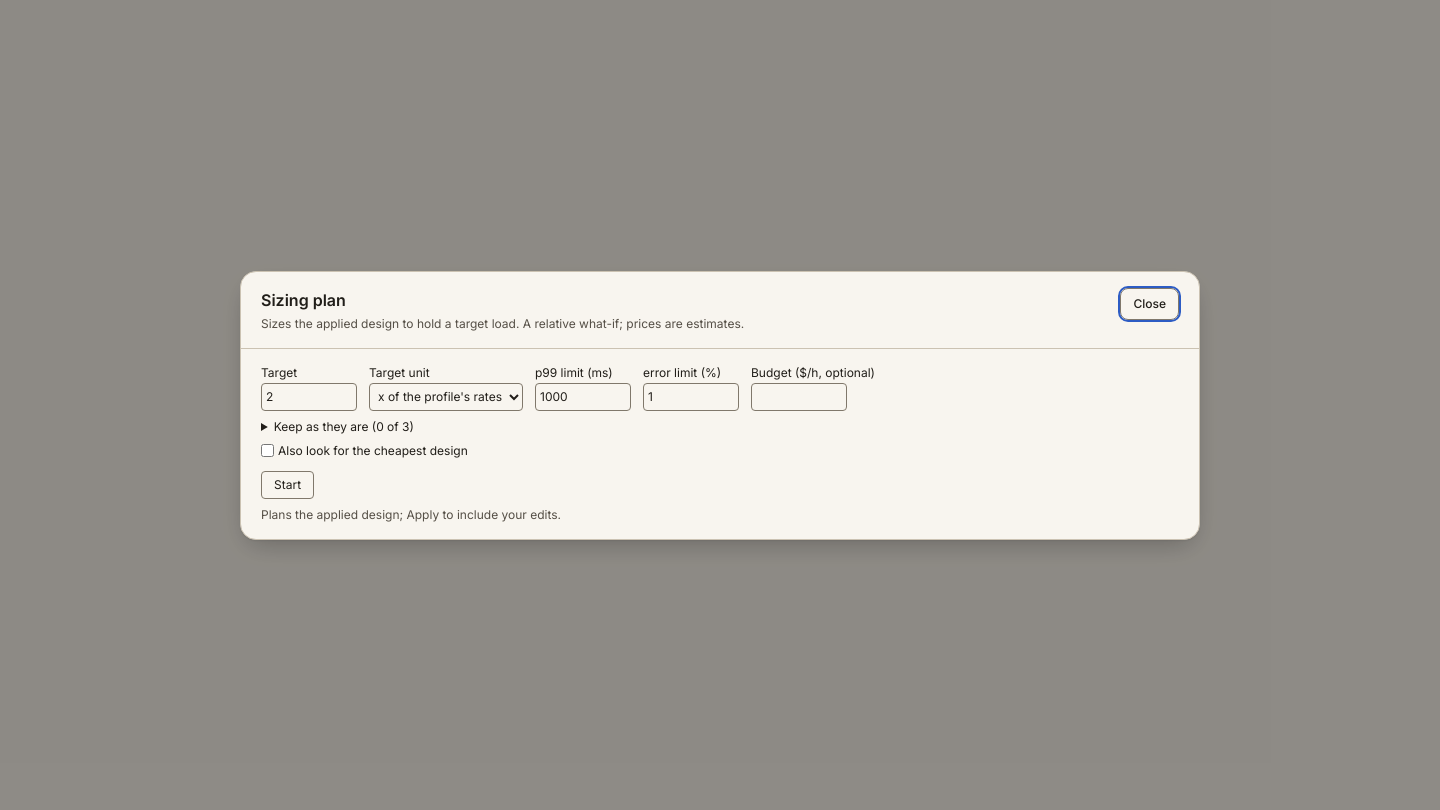
Test case: a dirty draft's keep list says its names are checked against the applied design
Click the heading "Keep as they are (0 of 3)" at (344,426), box [274,418,414,434]
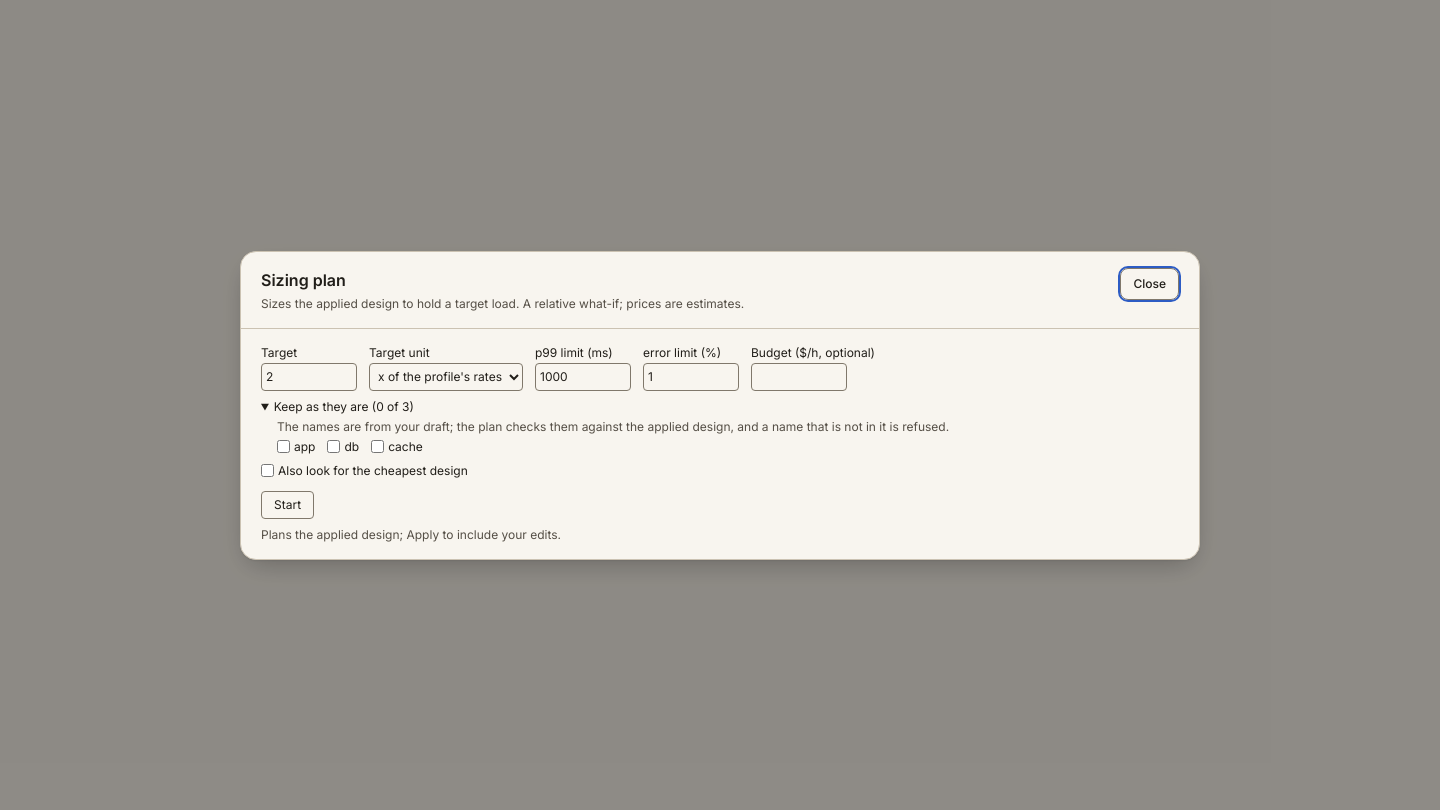
expect the text "the plan checks them against the applied design" is shown: met, box [277,418,949,434]
